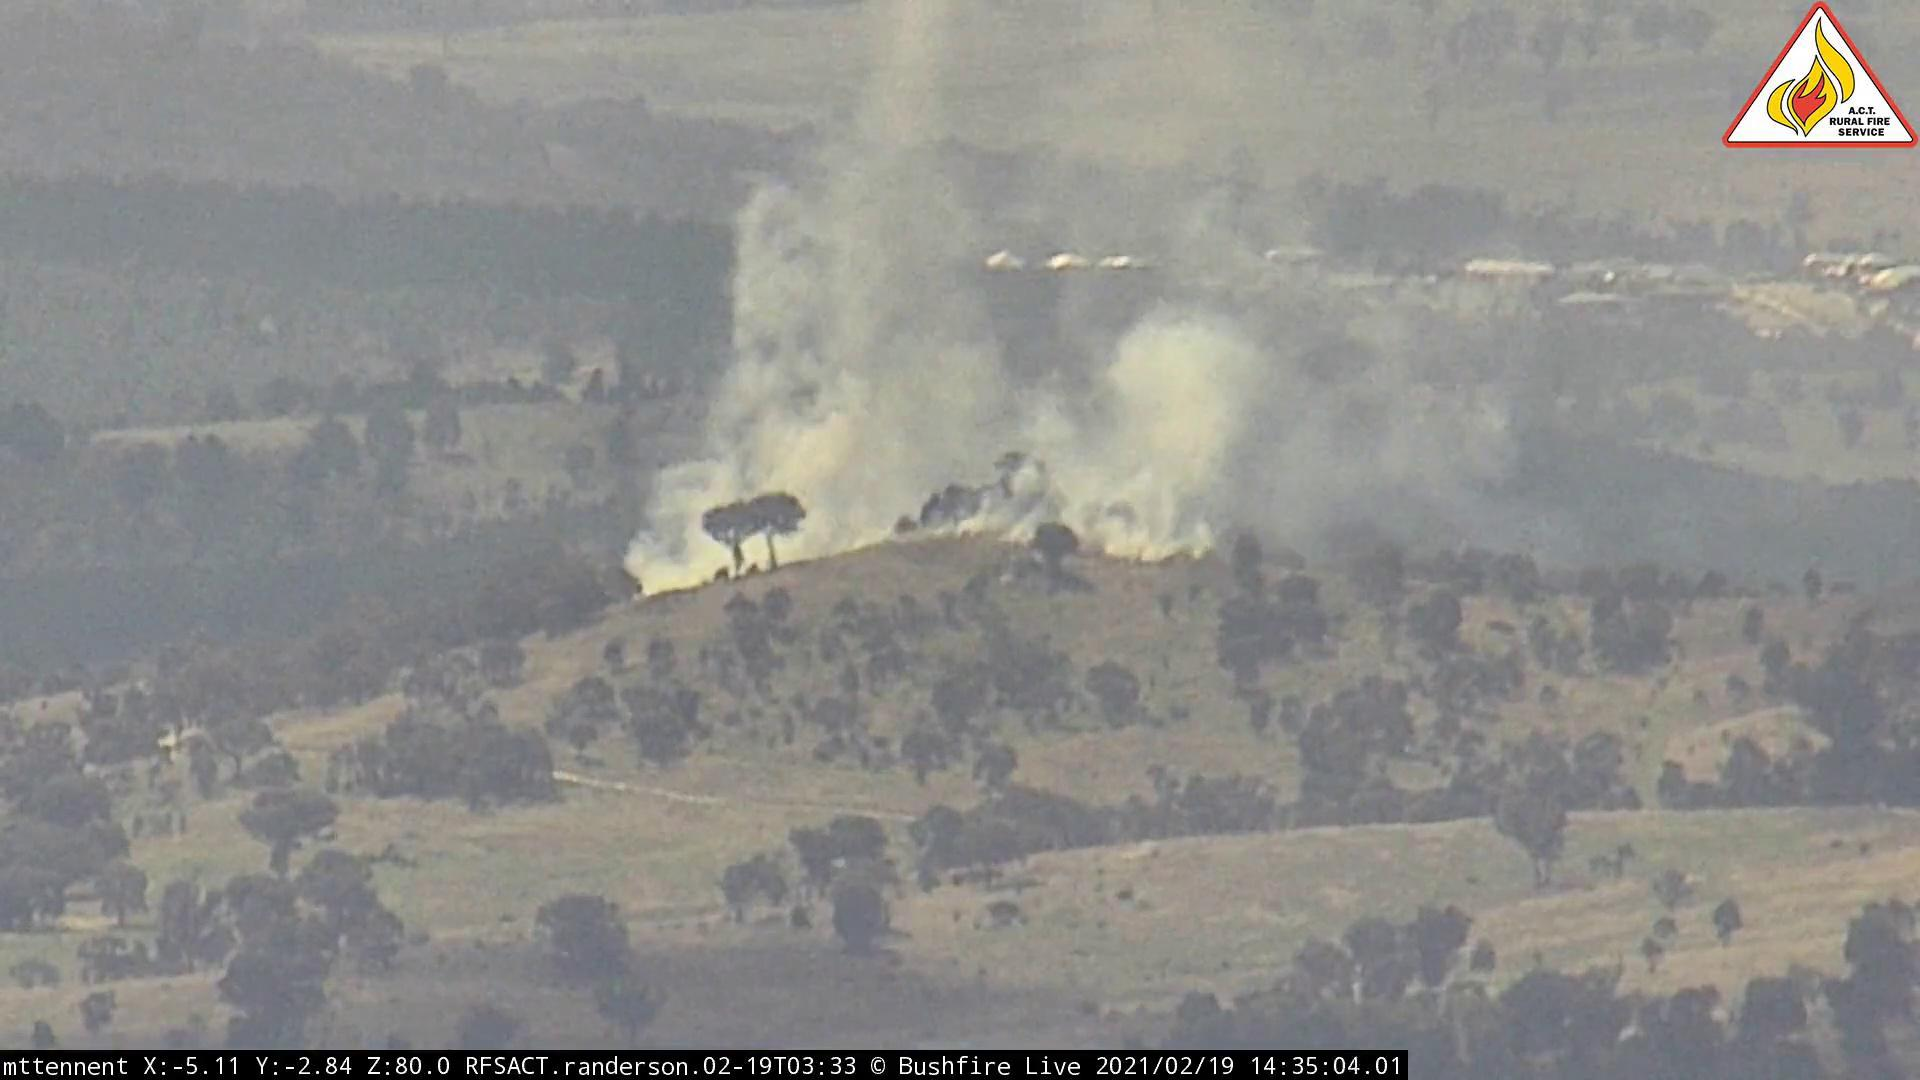Smoke: (621, 3, 1473, 599)
